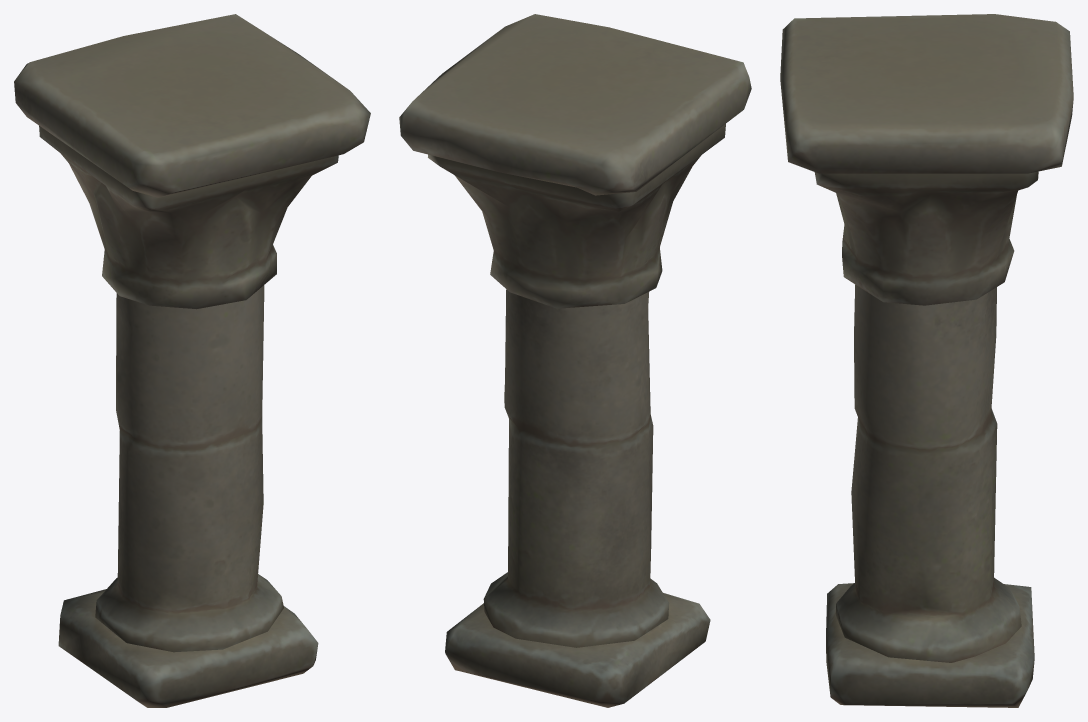
Rendered from SM_FW01_Ruins_Decor_Column_3m_01.fbx.
3 views of the same model, side by side, from view 1: azimuth 30°, elevation 25°; view 2: azimuth 150°, elevation 25°; view 3: azimuth 270°, elevation 25° (orthographic). The views are drawn at different scales.
Visible parts, largest first — view 1: SM_FW01_Ruins_Decor_Column_3m_01_LOD0; view 2: SM_FW01_Ruins_Decor_Column_3m_01_LOD0; view 3: SM_FW01_Ruins_Decor_Column_3m_01_LOD0.
Boxes of the visible parts, x1,y1,x2,y2 form: SM_FW01_Ruins_Decor_Column_3m_01_LOD0: (14,14,370,707); SM_FW01_Ruins_Decor_Column_3m_01_LOD0: (399,14,751,707); SM_FW01_Ruins_Decor_Column_3m_01_LOD0: (780,14,1073,707).
Size of what is drawn, in the model's own units: 1.32 by 3.06 by 1.36.
